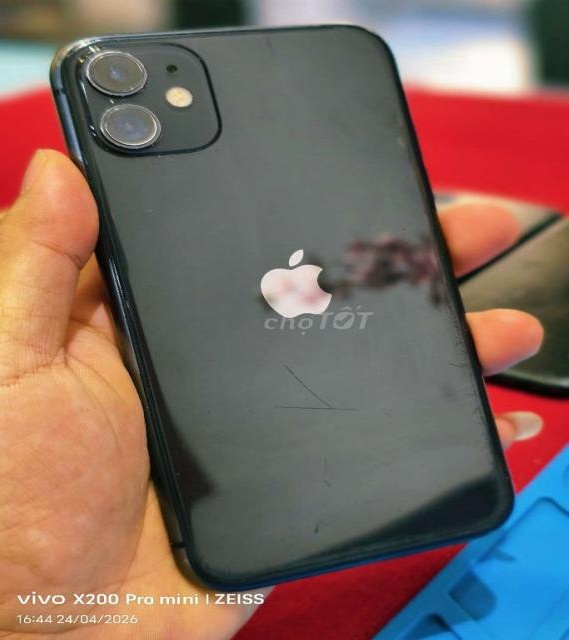scratch: (432, 274, 513, 461), (252, 348, 366, 436), (289, 457, 371, 558), (362, 90, 420, 179), (239, 10, 318, 65), (79, 34, 119, 85)
